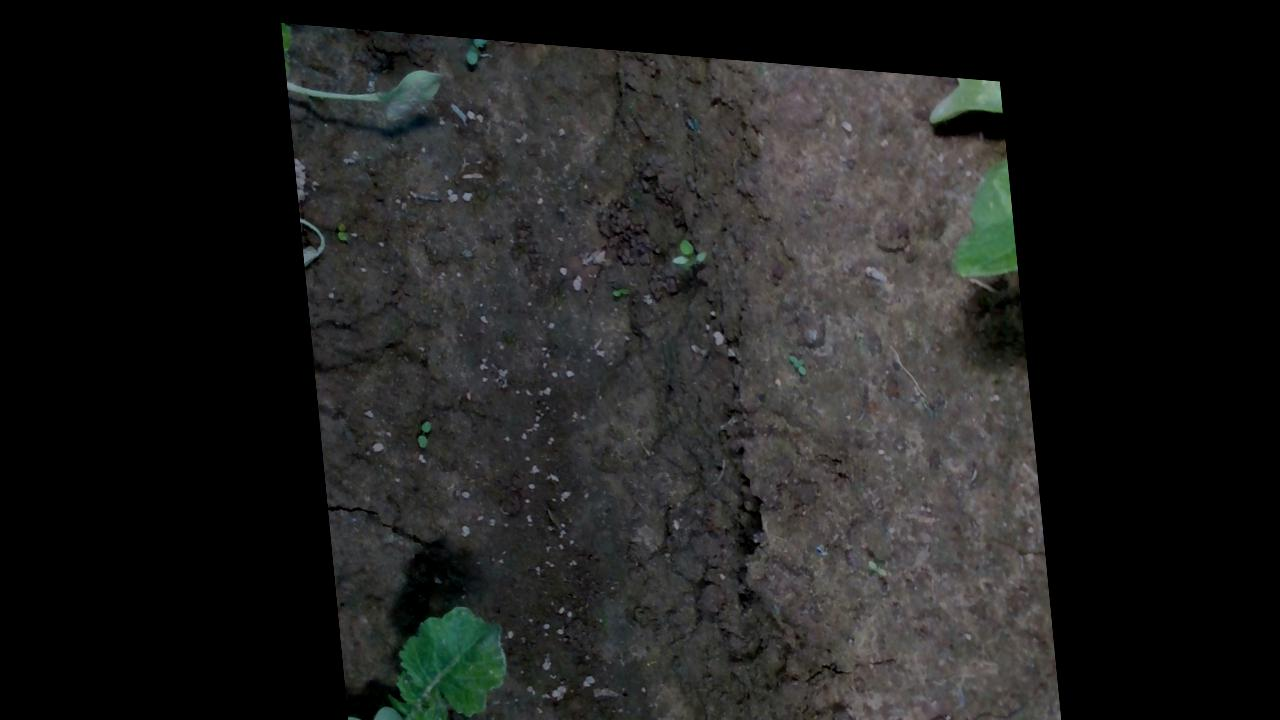weed: (665, 223, 706, 259), (463, 30, 491, 59), (406, 411, 428, 442), (856, 541, 881, 562), (781, 340, 803, 361), (331, 215, 346, 236), (607, 275, 629, 287)
